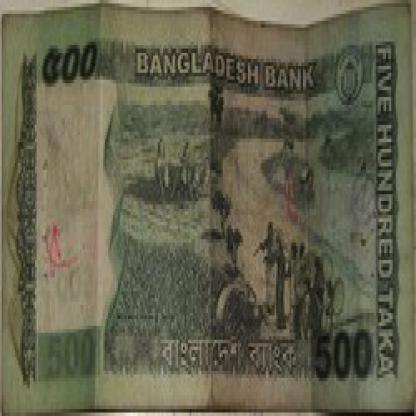500 taka: (5, 11, 414, 413), (42, 42, 110, 90)
